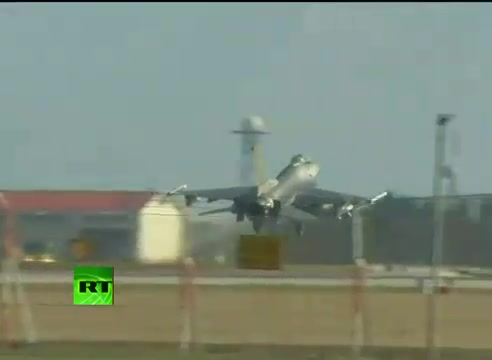aeroplane: (167, 154, 388, 238)
